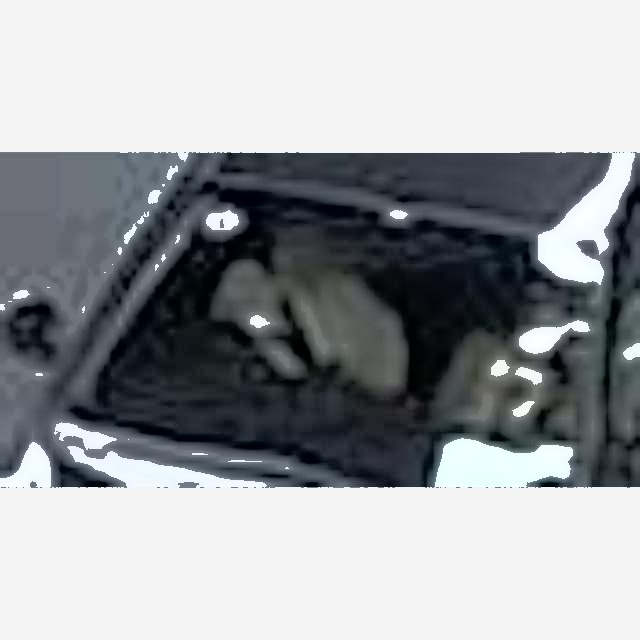pakai: (196, 211, 407, 415)
